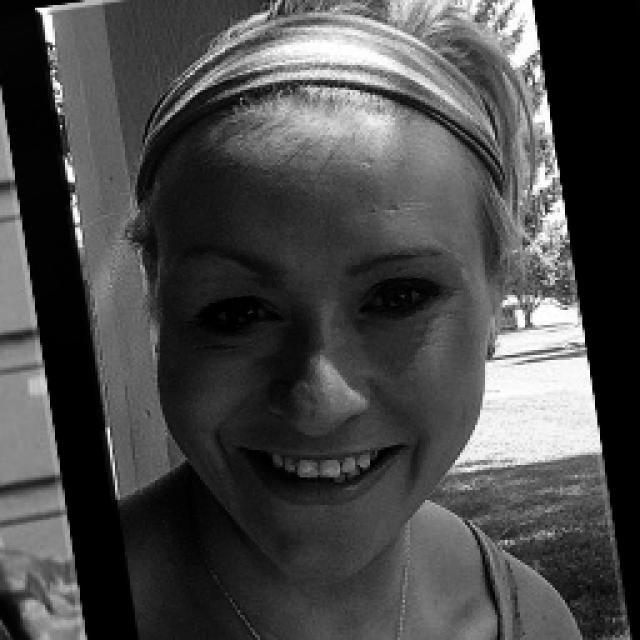no-glasses: (173, 262, 467, 359)
